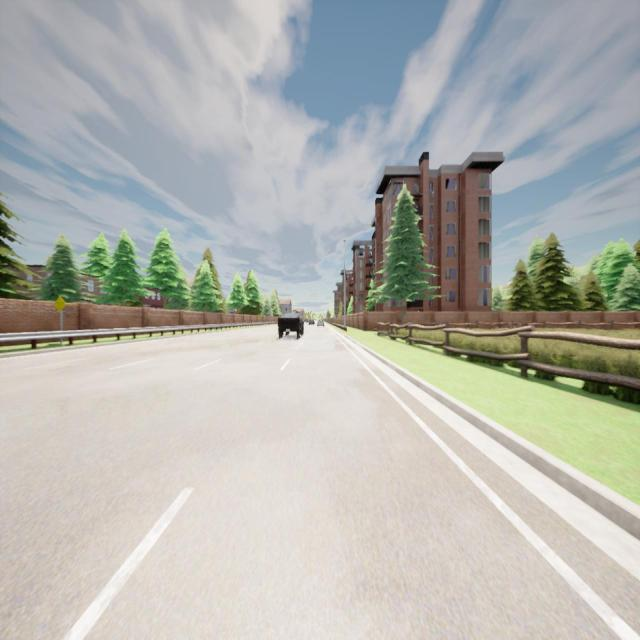Traffic_Signs: (52, 295, 67, 312)
Vehicle: (278, 308, 304, 341), (317, 318, 325, 328), (307, 318, 316, 326)
